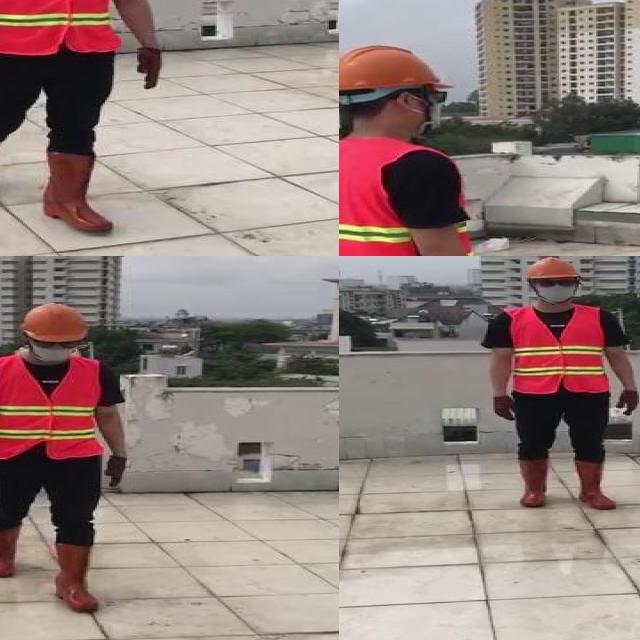boots: (43, 151, 112, 233), (52, 541, 104, 615), (572, 461, 614, 511), (514, 456, 552, 508), (0, 524, 22, 579)
face_mask: (30, 336, 82, 364)
glasses: (32, 338, 82, 352)
hand_glove: (137, 48, 160, 90), (108, 455, 127, 486)
head_helmet: (477, 256, 640, 511), (339, 44, 456, 94), (12, 300, 94, 345), (516, 256, 581, 279)
person: (339, 40, 572, 256), (0, 294, 142, 625), (0, 0, 170, 239)
vest: (339, 136, 478, 256), (0, 359, 103, 460), (507, 305, 609, 395), (0, 0, 123, 54)
